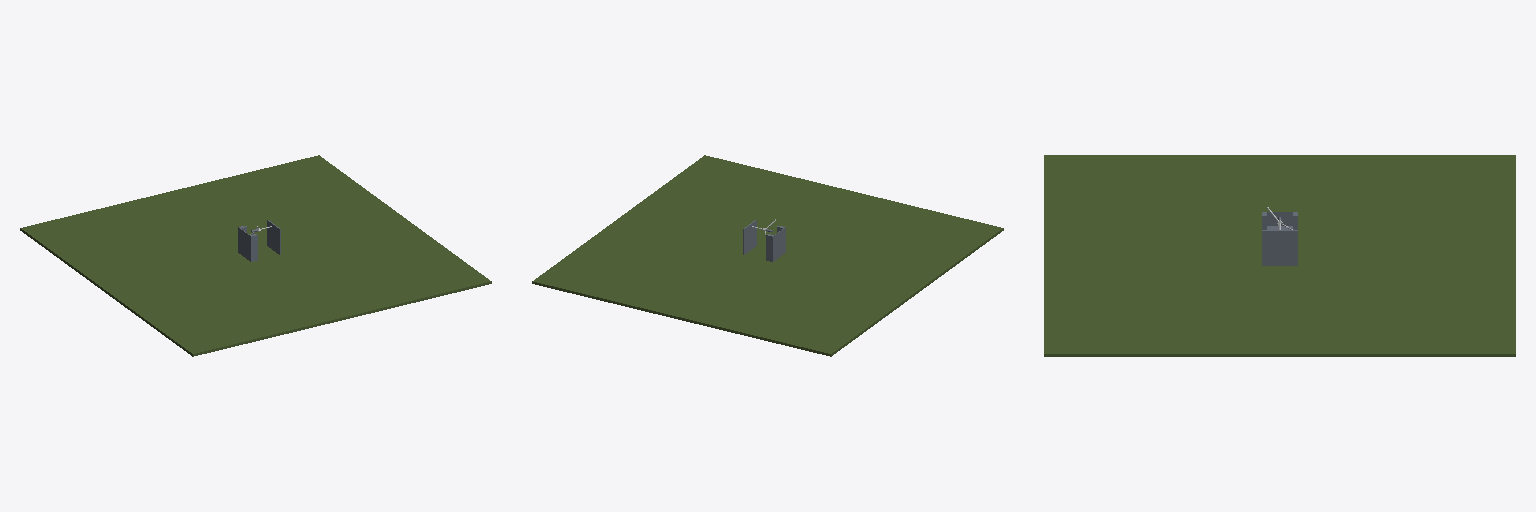
The robot description file, URDF, robot "db0344_turnstile_tripod_minimal":
<?xml version="1.0" ?>
<robot xmlns:doorbench="https://github.com/adamraudonis/DoorBench/schema/urdf-ext" name="db0344_turnstile_tripod_minimal">
  <link name="world_env">
    <visual name="floor_vis">
      <origin xyz="0 0 -0.05" rpy="0 0 0"/>
      <geometry>
        <box size="12 12 0.1"/>
      </geometry>
      <material name="mat_floor"/>
    </visual>
    <collision name="floor_col">
      <origin xyz="0 0 -0.05" rpy="0 0 0"/>
      <geometry>
        <box size="12 12 0.1"/>
      </geometry>
    </collision>
    <visual name="cabinet_vis">
      <origin xyz="-0.315 0 0.3" rpy="0 0 0"/>
      <geometry>
        <box size="0.28 0.9 0.6"/>
      </geometry>
      <material name="mat_frame"/>
    </visual>
    <collision name="cabinet_col">
      <origin xyz="-0.315 0 0.3" rpy="0 0 0"/>
      <geometry>
        <box size="0.28 0.9 0.6"/>
      </geometry>
    </collision>
    <visual name="cabinet_end_n_vis">
      <origin xyz="-0.315 -0.39 0.79" rpy="0 0 0"/>
      <geometry>
        <box size="0.28 0.12 0.38"/>
      </geometry>
      <material name="mat_frame"/>
    </visual>
    <collision name="cabinet_end_n_col">
      <origin xyz="-0.315 -0.39 0.79" rpy="0 0 0"/>
      <geometry>
        <box size="0.28 0.12 0.38"/>
      </geometry>
    </collision>
    <visual name="cabinet_end_p_vis">
      <origin xyz="-0.315 0.39 0.79" rpy="0 0 0"/>
      <geometry>
        <box size="0.28 0.12 0.38"/>
      </geometry>
      <material name="mat_frame"/>
    </visual>
    <collision name="cabinet_end_p_col">
      <origin xyz="-0.315 0.39 0.79" rpy="0 0 0"/>
      <geometry>
        <box size="0.28 0.12 0.38"/>
      </geometry>
    </collision>
    <visual name="cabinet_back_vis">
      <origin xyz="-0.445 0 0.79" rpy="0 0 0"/>
      <geometry>
        <box size="0.02 0.9 0.38"/>
      </geometry>
      <material name="mat_frame"/>
    </visual>
    <collision name="cabinet_back_col">
      <origin xyz="-0.445 0 0.79" rpy="0 0 0"/>
      <geometry>
        <box size="0.02 0.9 0.38"/>
      </geometry>
    </collision>
    <visual name="guide_rail_post_vis">
      <origin xyz="0.715 0 0.5" rpy="0 0 0"/>
      <geometry>
        <box size="0.04 0.9 1"/>
      </geometry>
      <material name="mat_frame"/>
    </visual>
    <collision name="guide_rail_post_col">
      <origin xyz="0.715 0 0.5" rpy="0 0 0"/>
      <geometry>
        <box size="0.04 0.9 1"/>
      </geometry>
    </collision>
  </link>
  <link name="rotor">
    <inertial>
      <origin xyz="-0.005663 0 0" rpy="0 0 0"/>
      <mass value="10.738226"/>
      <inertia ixx="0.693715098" ixy="0" ixz="0" iyy="0.906355734" iyz="0.336704321" izz="0.906355734"/>
    </inertial>
    <visual name="hub_boss_vis">
      <origin xyz="-0.145 0 0" rpy="0 1.570796 0"/>
      <geometry>
        <cylinder radius="0.04" length="0.29"/>
      </geometry>
      <material name="mat_frame"/>
    </visual>
    <visual name="tripod_mesh_vis">
      <origin xyz="0 0 0" rpy="-0.785398 0 0"/>
      <geometry>
        <mesh filename="../../hardware/tripod_ae832648e5.obj"/>
      </geometry>
      <material name="mat_op_stainless"/>
    </visual>
    <collision name="arm_0_col_col">
      <origin xyz="0.3 0 0" rpy="0 1.570796 0"/>
      <geometry>
        <cylinder radius="0.019" length="0.4"/>
      </geometry>
    </collision>
    <collision name="arm_1_col_col">
      <origin xyz="-0.15 0.183712 -0.183712" rpy="-2.356194 -0.523599 1.148367"/>
      <geometry>
        <cylinder radius="0.019" length="0.4"/>
      </geometry>
    </collision>
    <collision name="arm_2_col_col">
      <origin xyz="-0.15 -0.183712 0.183712" rpy="0.785398 -0.523599 -0.221072"/>
      <geometry>
        <cylinder radius="0.019" length="0.4"/>
      </geometry>
    </collision>
  </link>
  <joint name="rotor_hinge" type="continuous">
    <origin xyz="0.115 0 0.93" rpy="0 0 0"/>
    <parent link="world_env"/>
    <child link="rotor"/>
    <axis xyz="0 0.707107 0.707107"/>
    <dynamics damping="2" friction="3.084245"/>
    <doorbench:ratchet one_way="true"/>
    <doorbench:note text="locked until a credential is presented: held by the rotor_solenoid_hold constraint, not by the joint range"/>
  </joint>
  <material name="mat_floor">
    <color rgba="0.35 0.42 0.25 1"/>
  </material>
  <material name="mat_frame">
    <color rgba="0.45 0.48 0.52 1"/>
  </material>
  <material name="mat_op_stainless">
    <color rgba="0.75 0.76 0.77 1"/>
  </material>
  <doorbench:weld body1="rotor" body2="world" label="Turnstile solenoid lock (released on a valid credential)" active="true"/>
</robot>

--- Facts derived from the render (not from the file) ---
Views: 3 orthographic renders of the robot side by side, from view 1: azimuth 30°, elevation 25°; view 2: azimuth 150°, elevation 25°; view 3: azimuth 270°, elevation 25°.
Robot: db0344_turnstile_tripod_minimal — 2 links, 1 joints (1 continuous); root link world_env; default pose: every joint at zero.
Visible links, largest first — view 1: world_env; view 2: world_env; view 3: world_env.
Link boxes in pixels (x1,y1,x2,y2): world_env: (20, 155, 491, 356); world_env: (532, 155, 1003, 356); world_env: (1044, 155, 1515, 356).
Bounding box of the posed robot: 12 × 12 × 1.36 m (x, y, z).
1 mesh visuals loaded from 1 distinct referenced files (1 OBJ).
